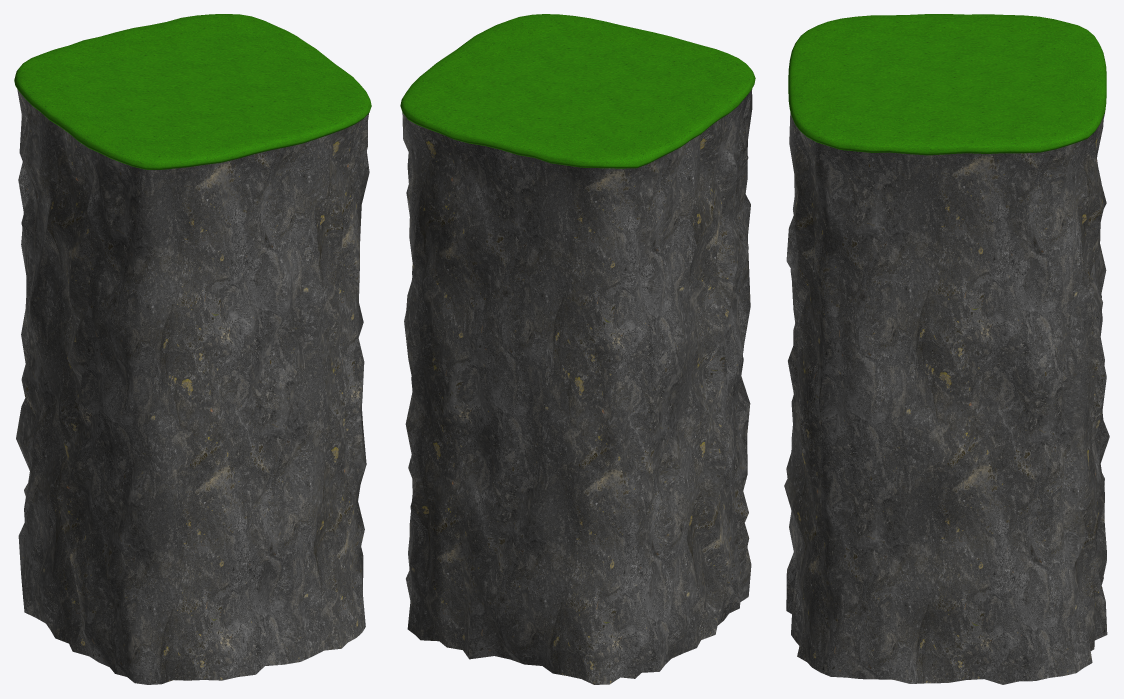
File: 10x10 Platform.fbx
The picture shows the model from 3 angles, left to right: view 1: azimuth 30°, elevation 25°; view 2: azimuth 150°, elevation 25°; view 3: azimuth 270°, elevation 25°; orthographic projection. The views are drawn at different scales.
Visible parts, largest first — view 1: Platform; view 2: Platform; view 3: Platform.
Part boxes in pixels (left/top/right/bottom): Platform: left=14, top=14, right=371, bottom=684; Platform: left=400, top=14, right=755, bottom=684; Platform: left=784, top=14, right=1109, bottom=684.
Bounding box in the file's own units: 1032 × 1896 × 1034.
